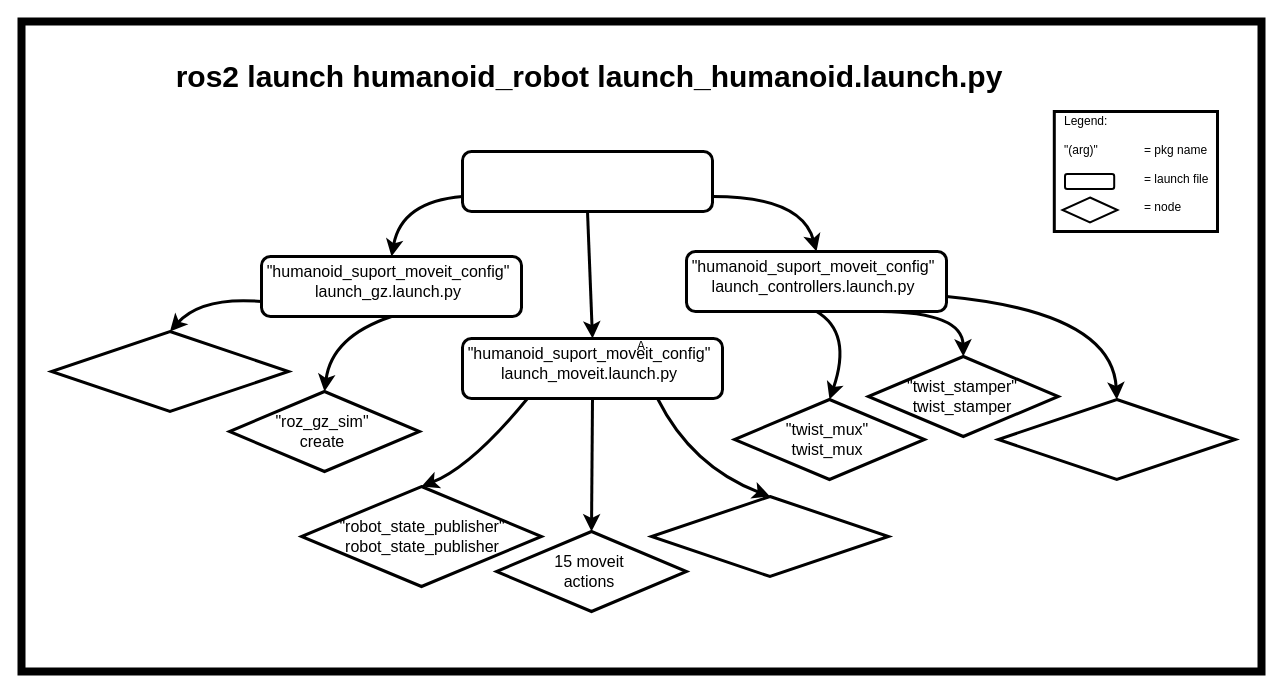
This 1282x692 diagram has some shape labels left out. Each missing label, with the box of its shape:
"controller_manager" spawner: (996, 398, 1236, 480)
"humanoid_robot" launch_humanoid.launch.py: (460, 150, 714, 212)
"ros_gz_bridge" parameter_bridge: (50, 330, 290, 412)
"tf2_ros" static_transform_publisher: (650, 494, 890, 578)
